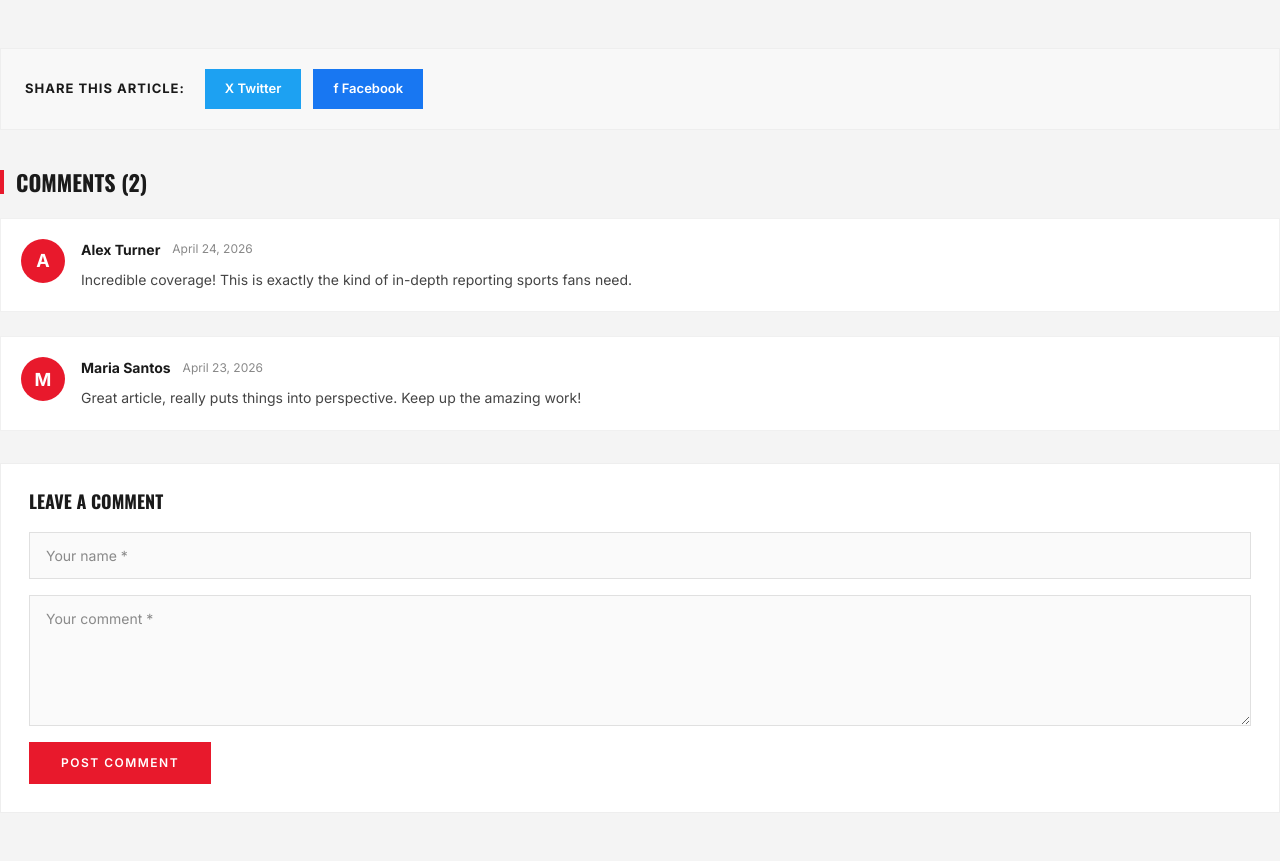
it: CommentSection — izoh qo'shish › izoh qo'shilgandan so'ng comments soni oshadi
This screenshot has width=1280, height=861.
Type "Test" into the field with placeholder "Your name *" at (640, 556), box [29,532,1251,579]
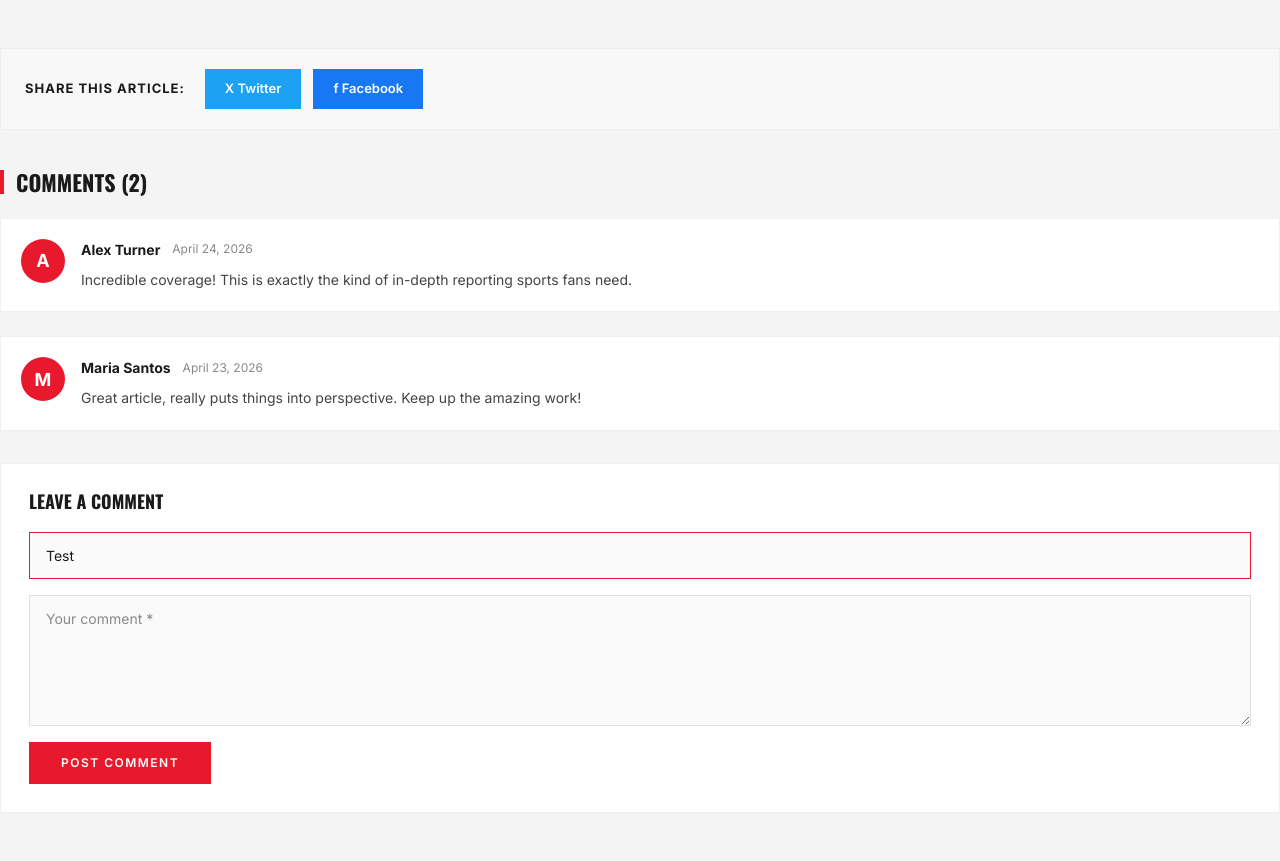
Type "Salom" into the text box with placeholder "Your comment *" at (640, 661), box [29,595,1251,726]
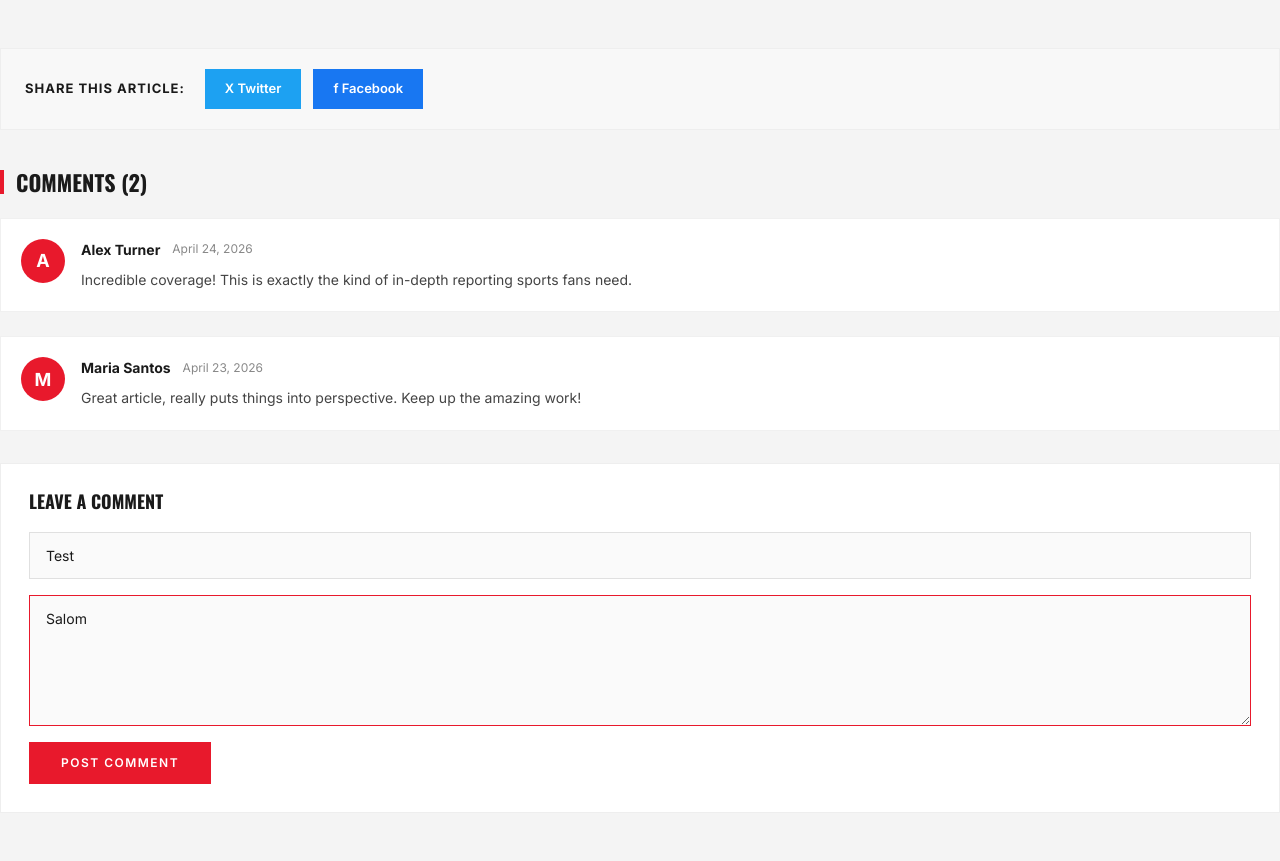
Click the button "Post Comment" at (120, 763), box [29,742,211,784]
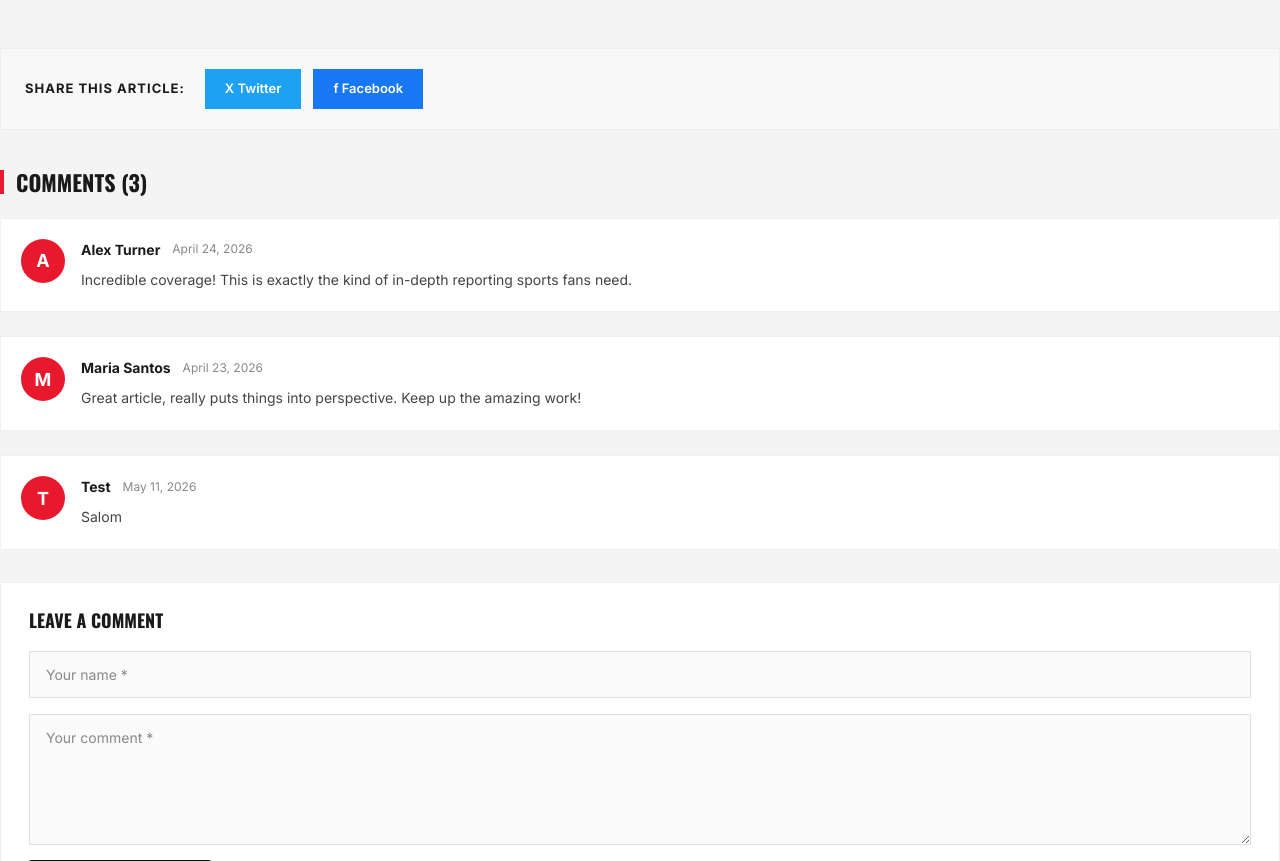
Check: the heading "Comments (3)" is shown, box [0,170,1279,194]
